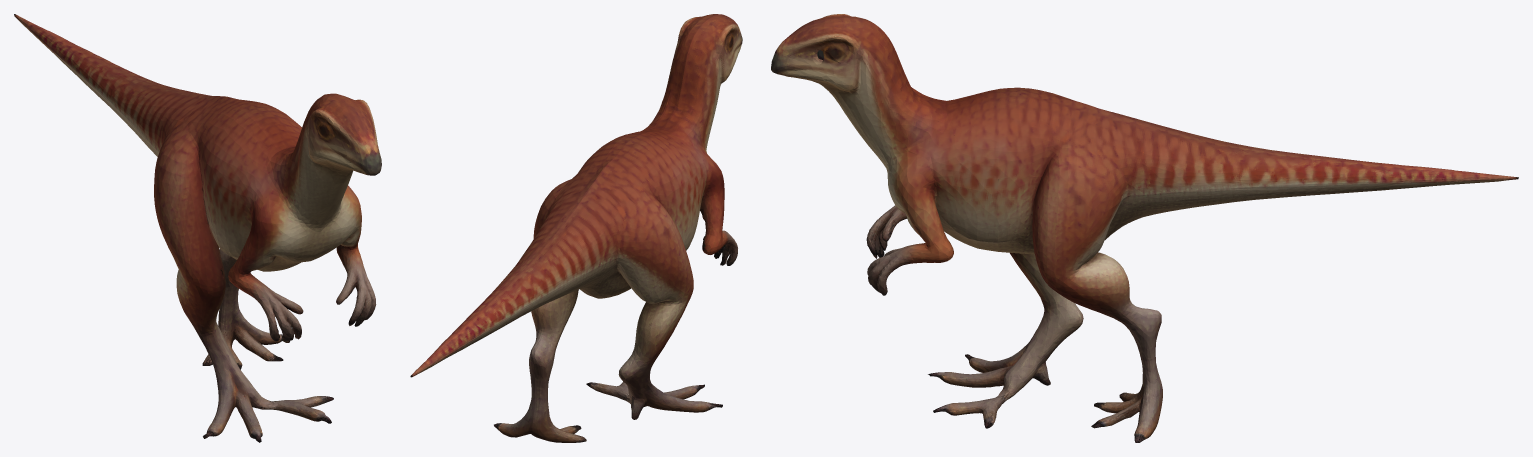
The picture shows the model from 3 angles, left to right: view 1: azimuth 30°, elevation 25°; view 2: azimuth 150°, elevation 25°; view 3: azimuth 270°, elevation 25°; orthographic projection. The views are drawn at different scales.
Visible parts, largest first — view 1: world; view 2: world; view 3: world.
Boxes of the visible parts, <box> form: world: <box>14,14,381,442</box>; world: <box>410,14,742,442</box>; world: <box>771,14,1518,442</box>.
Bounding box in the file's own units: 0.5451 × 1.13 × 2.
1 material, 1 textured.
